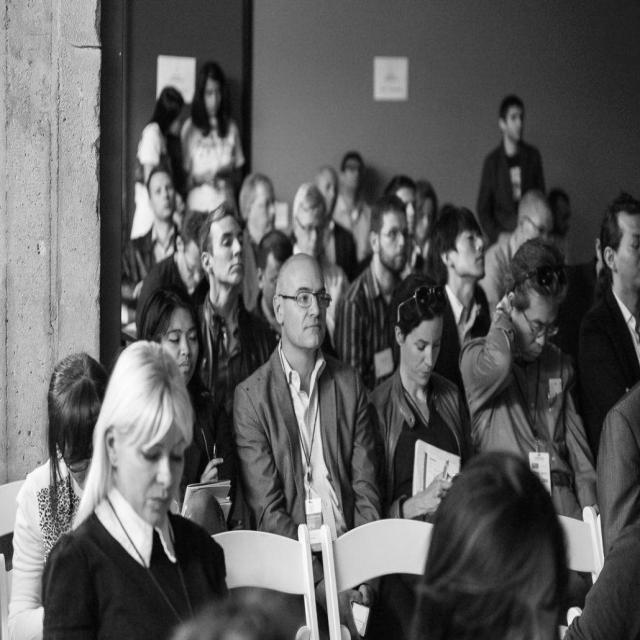person: (39, 344, 238, 639), (228, 250, 388, 567), (342, 454, 586, 638), (460, 235, 598, 511), (8, 351, 112, 640), (368, 285, 474, 515), (328, 183, 428, 396), (138, 290, 223, 503), (575, 191, 640, 466), (476, 95, 549, 249), (180, 63, 249, 222), (439, 193, 488, 315), (276, 260, 327, 373), (136, 74, 184, 177), (235, 158, 285, 252), (205, 202, 245, 302), (373, 195, 409, 296), (174, 209, 208, 311), (285, 178, 323, 260), (260, 233, 288, 339), (142, 169, 178, 245), (384, 169, 416, 252), (520, 179, 550, 245), (342, 148, 363, 219), (550, 178, 572, 245), (313, 160, 334, 220), (413, 178, 431, 245)
